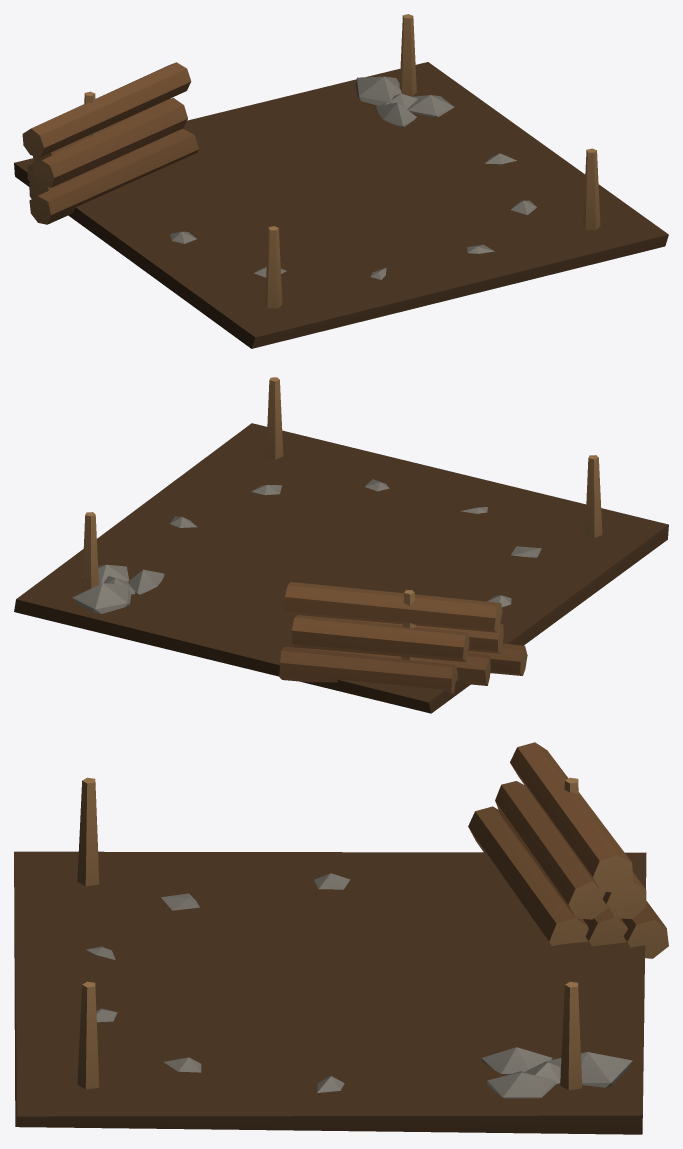
Rendered from house_1_s0.glb.
The picture shows the model from 3 angles, top to bottom: view 1: azimuth 30°, elevation 25°; view 2: azimuth 150°, elevation 25°; view 3: azimuth 270°, elevation 25°; orthographic projection. The views are drawn at different scales.
Visible parts, largest first — view 1: house_1_s0; view 2: house_1_s0; view 3: house_1_s0.
Boxes of the visible parts, x1,y1,x2,y2 form: house_1_s0: [14, 14, 668, 348]; house_1_s0: [14, 377, 668, 713]; house_1_s0: [14, 742, 668, 1134].
Bounding box in the file's own units: 1.88 × 0.3577 × 1.79.
